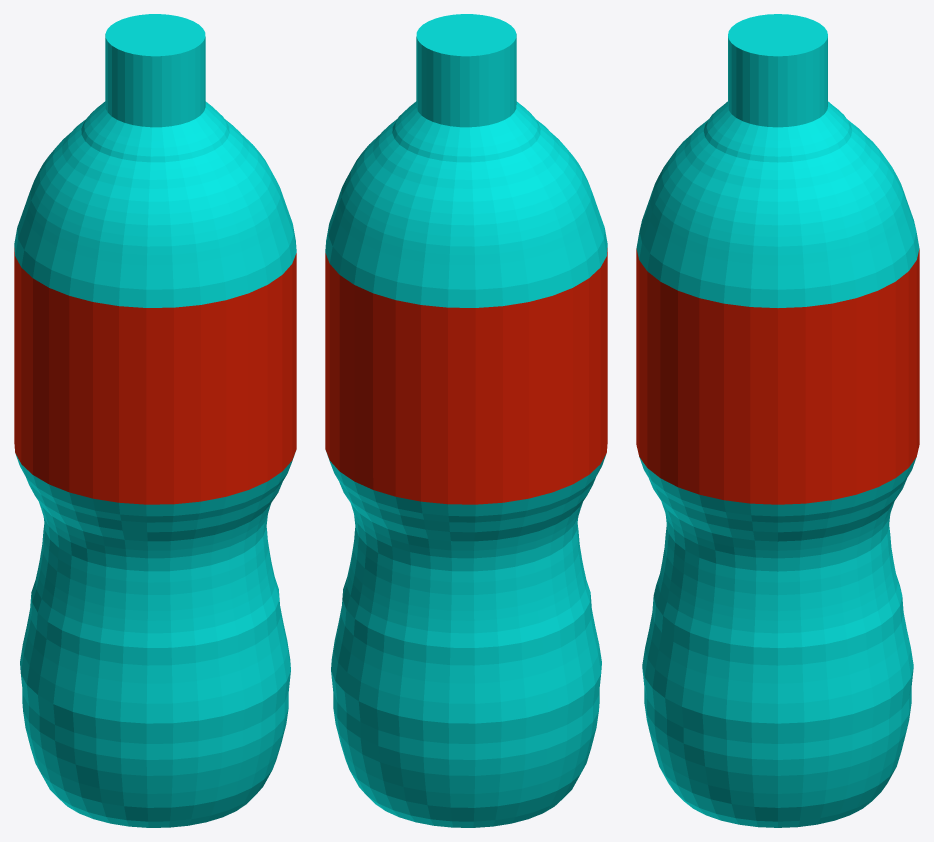
Rendered from WaterBottle.fbx.
The picture shows the model from 3 angles, left to right: view 1: azimuth 30°, elevation 25°; view 2: azimuth 150°, elevation 25°; view 3: azimuth 270°, elevation 25°; orthographic projection.
Visible parts, largest first — view 1: Cylinder; view 2: Cylinder; view 3: Cylinder.
Boxes of the visible parts, bbox=[...] form: Cylinder: bbox=[14, 14, 296, 827]; Cylinder: bbox=[325, 14, 607, 827]; Cylinder: bbox=[636, 14, 919, 827].
Size of the model in its own units: 155 by 454 by 155.
